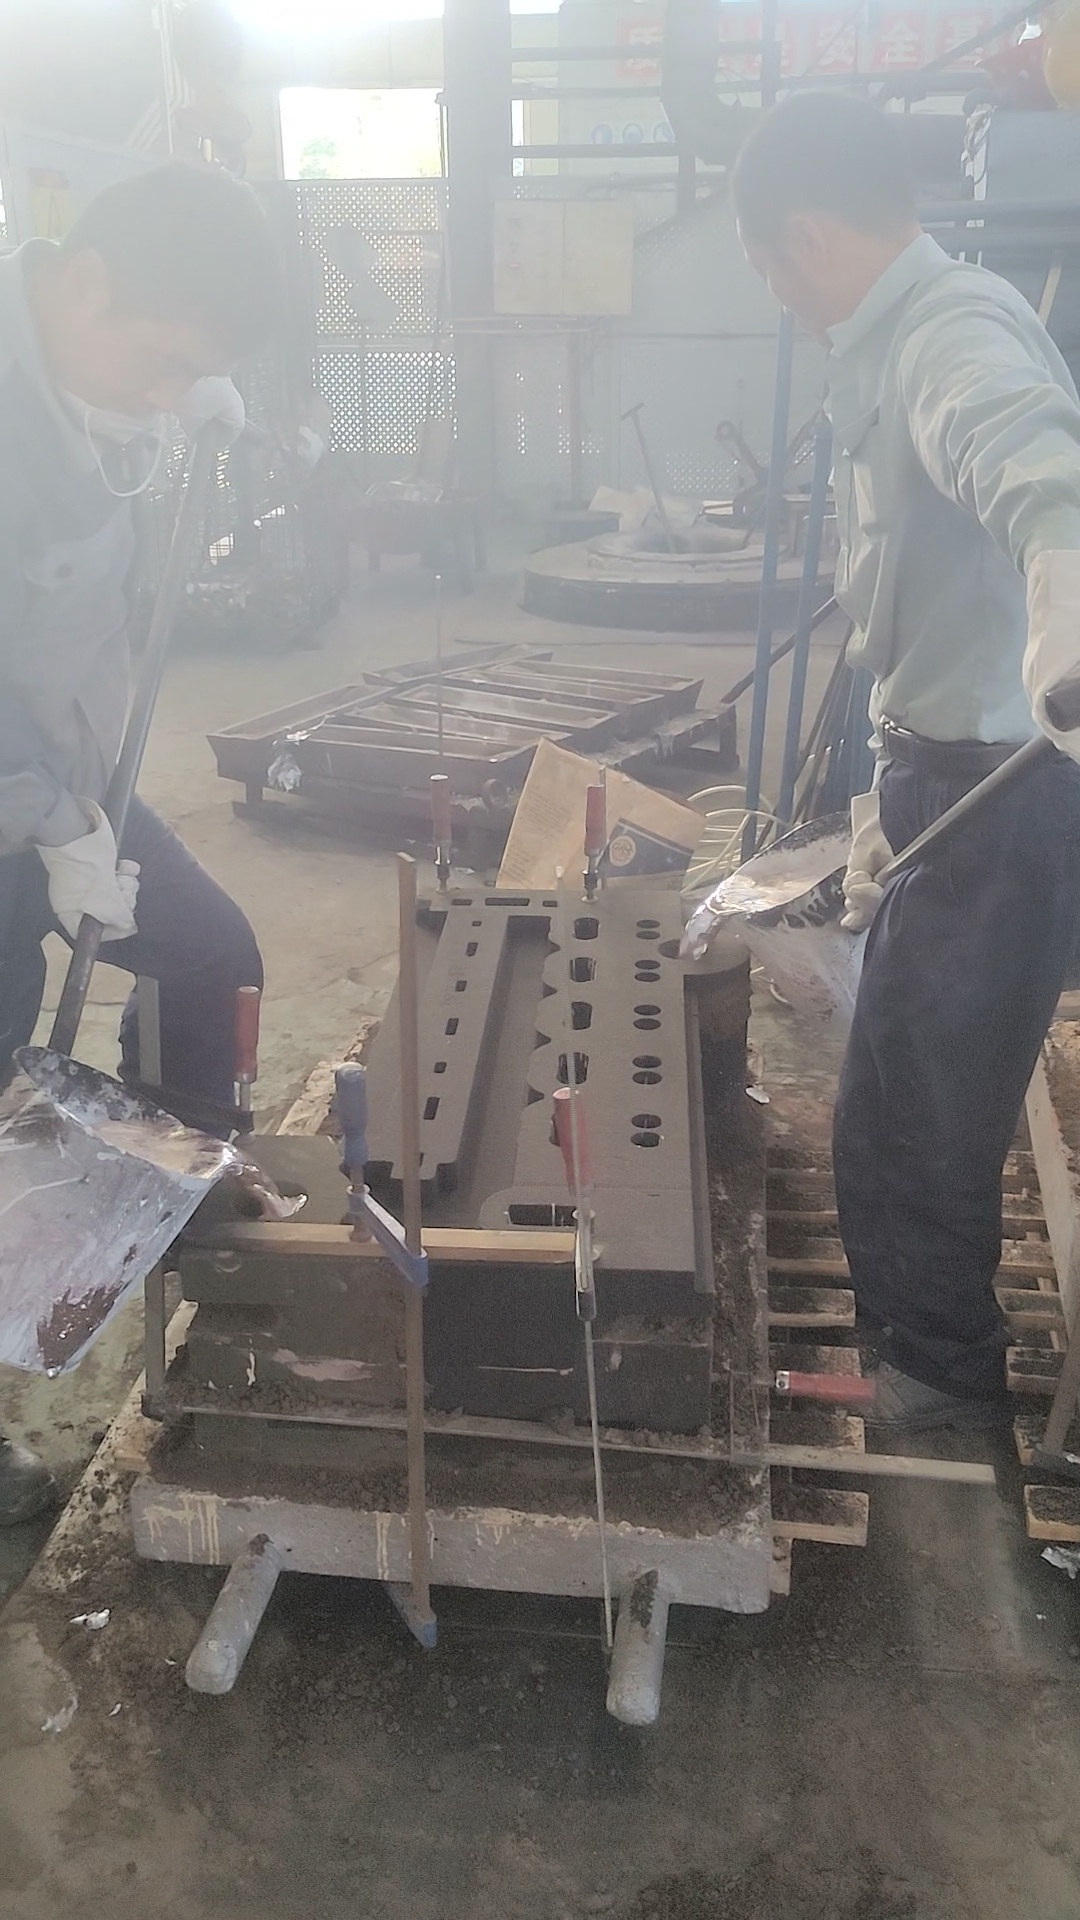pouring hole: (227, 1182, 309, 1217), (657, 938, 709, 960)
